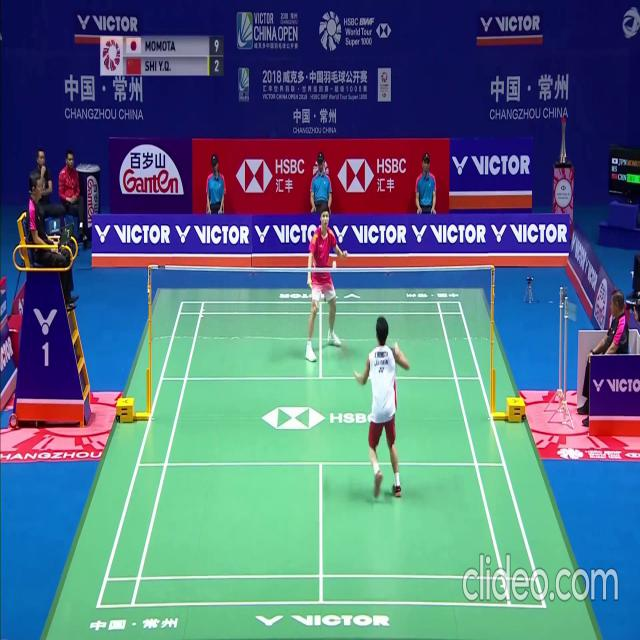Shuttlecock: (333, 261, 338, 269)
